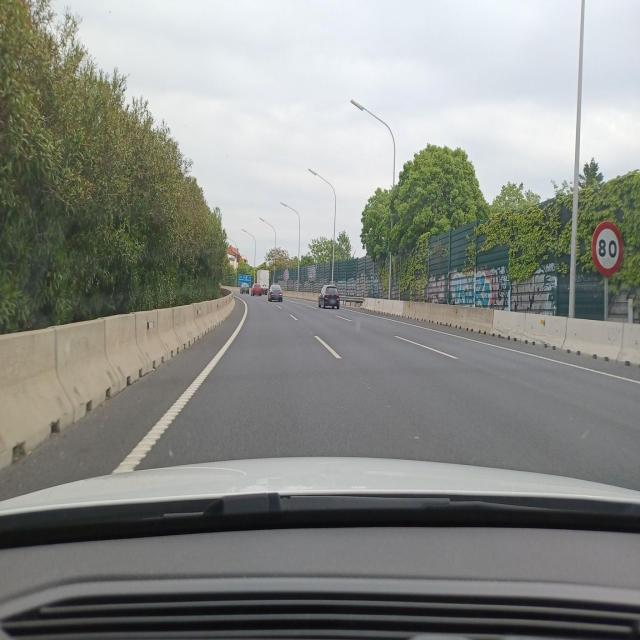car: (318, 282, 340, 310), (268, 283, 283, 303)
